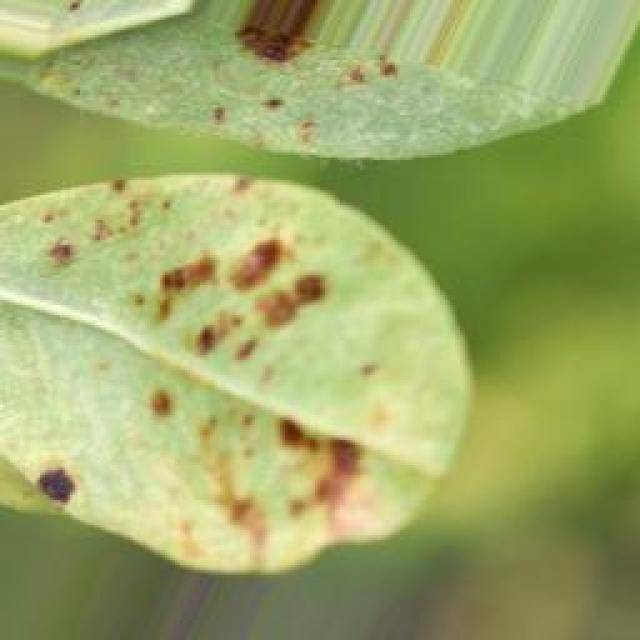Whitefly: (33, 144, 432, 554), (43, 7, 433, 183)
